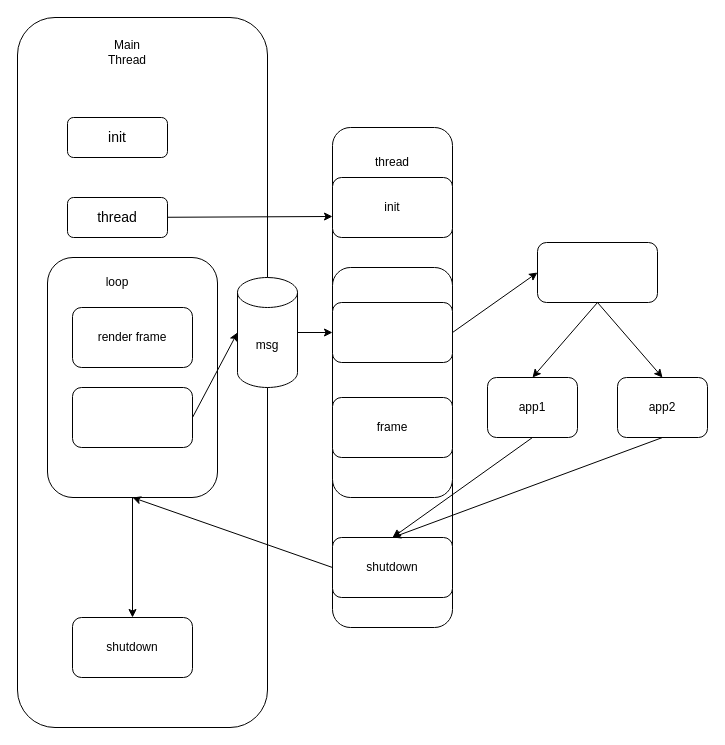
Image size: 725x745. Some labels were removed from this diagram. Each missing label, with the centre of its shape:
"call back" goes at [392,332].
"push event" goes at [132,417].
"runApp" goes at [597,272].
